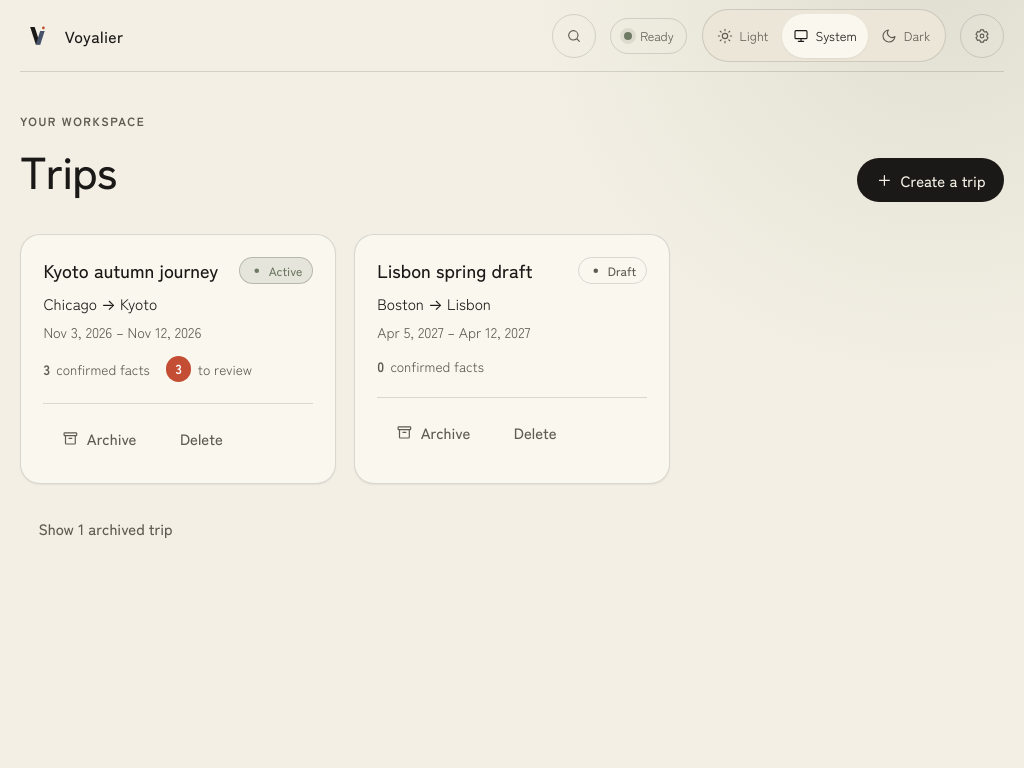
Scenario: trip notes › starts empty and saves what you type
The width and height of the screenshot is (1024, 768).
Click the button with aria-label "Open Kyoto autumn journey" at (131, 270), box [43, 257, 218, 283]
(page scrolled)
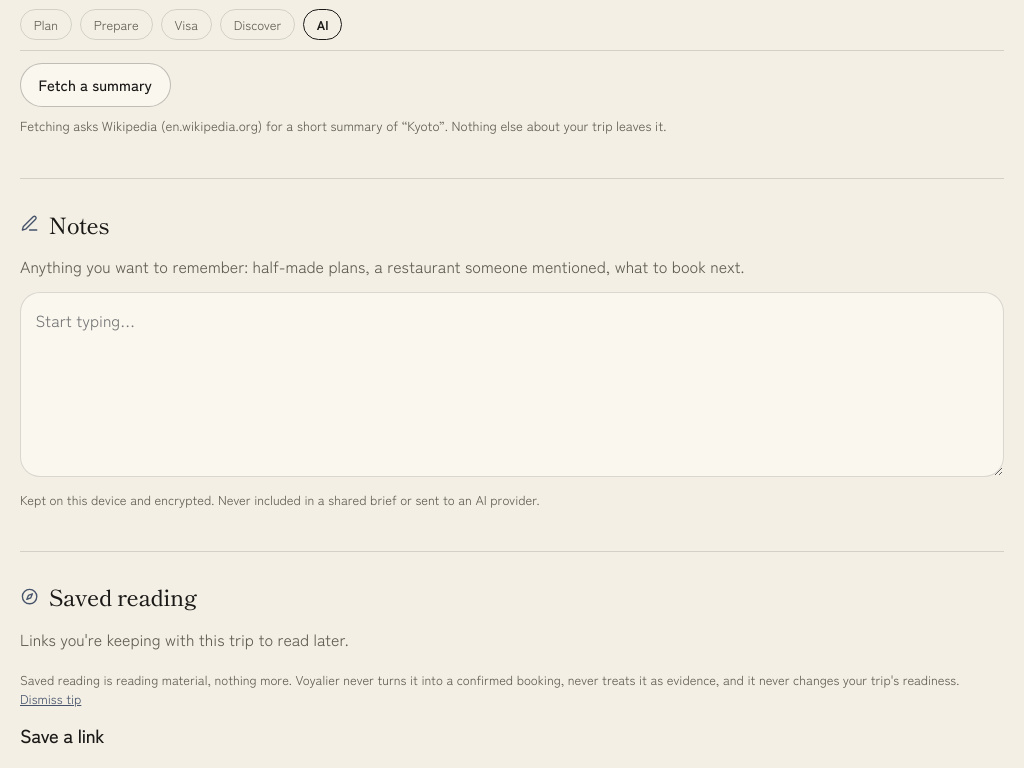
Result: the text box named "Trip notes" is shown
Result: the text box named "Trip notes" is empty
Type "Book the tea house" into the text box named "Trip notes" at (512, 384), box [20, 292, 1004, 477]
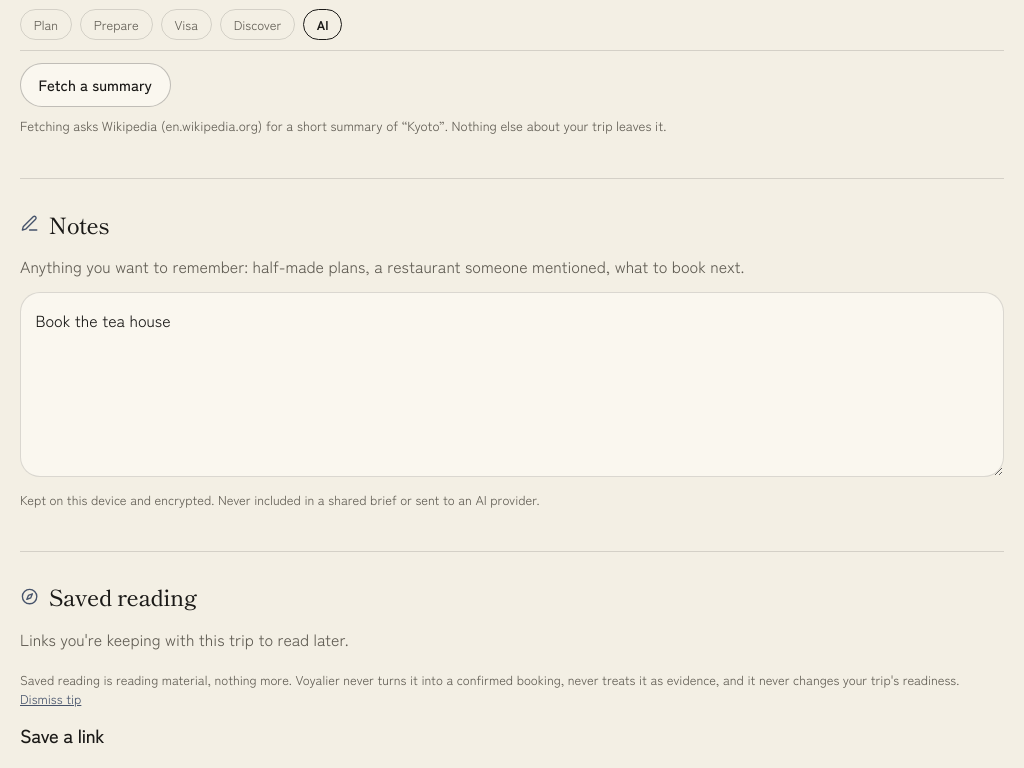
Leave the text box named "Trip notes", box [20, 292, 1004, 477]
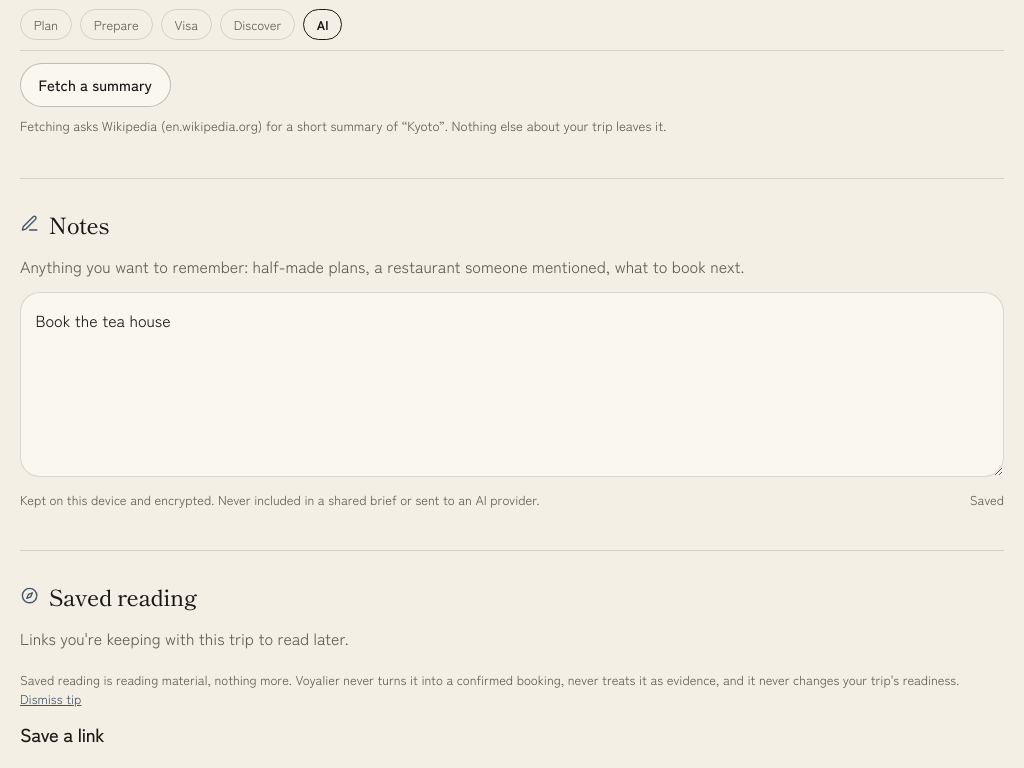
Result: the text "Saved" is shown at [970, 490, 1004, 509]
